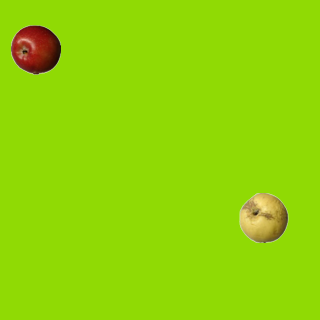Apple Braeburn: (10, 24, 60, 74)
Apple Golden 1: (238, 192, 288, 242)
